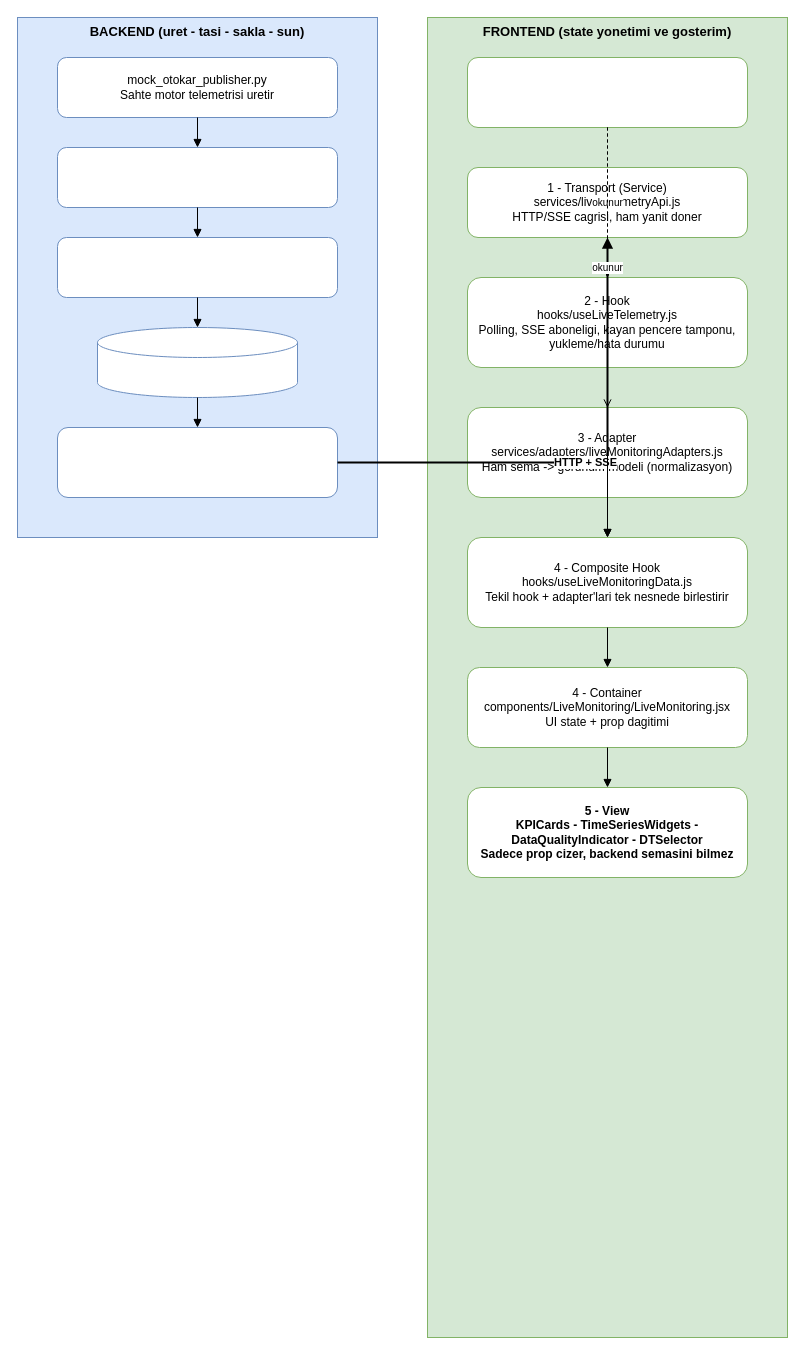
The diagram is 805 pixels wide and 1355 high, and some of its shapes have lost their labels. The centre of each missing label's shape, as x and y in pixels:
"0 - Config config/telemetryConfig.js Sabitler: esik, pencere, polling, bucket" goes at [607,92].
"FastAPI - app/routers/* assets - kpi - timeseries - stream" goes at [197,462].
"Mosquitto (MQTT broker) Mesaj tasima (port 1883)" goes at [197,177].
"mqtt_worker.py Ingest worker: mesaji DB'ye yazar" goes at [197,267].
"TimescaleDB (cbmdtm) Zaman serisi verisi" goes at [197,362].
